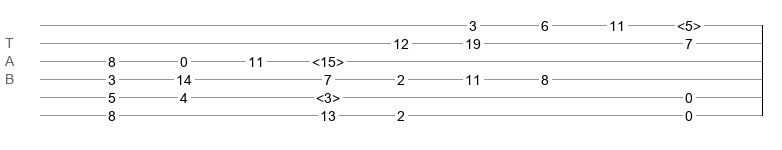0: (180, 54, 188, 64), (685, 90, 693, 100), (685, 108, 693, 118)
11: (248, 54, 264, 64), (465, 72, 481, 82), (609, 18, 625, 28)
12: (393, 36, 409, 46)
13: (320, 108, 336, 118)
14: (176, 72, 192, 82)
19: (465, 36, 481, 46)
2: (397, 72, 405, 82), (397, 108, 405, 118)
3: (108, 72, 116, 82), (469, 18, 477, 28)
4: (180, 90, 188, 100)
5: (108, 90, 116, 100)
6: (541, 18, 549, 28)
7: (324, 72, 332, 82), (685, 36, 693, 46)
8: (108, 108, 116, 118), (108, 54, 116, 64), (541, 72, 549, 82)
harmonic: (312, 54, 344, 64), (316, 90, 340, 100), (677, 18, 701, 28)
